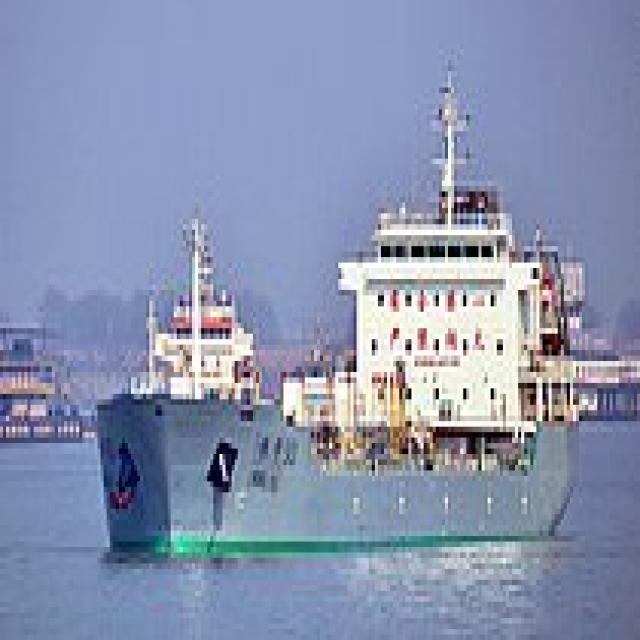Tanker: (88, 50, 582, 552)
